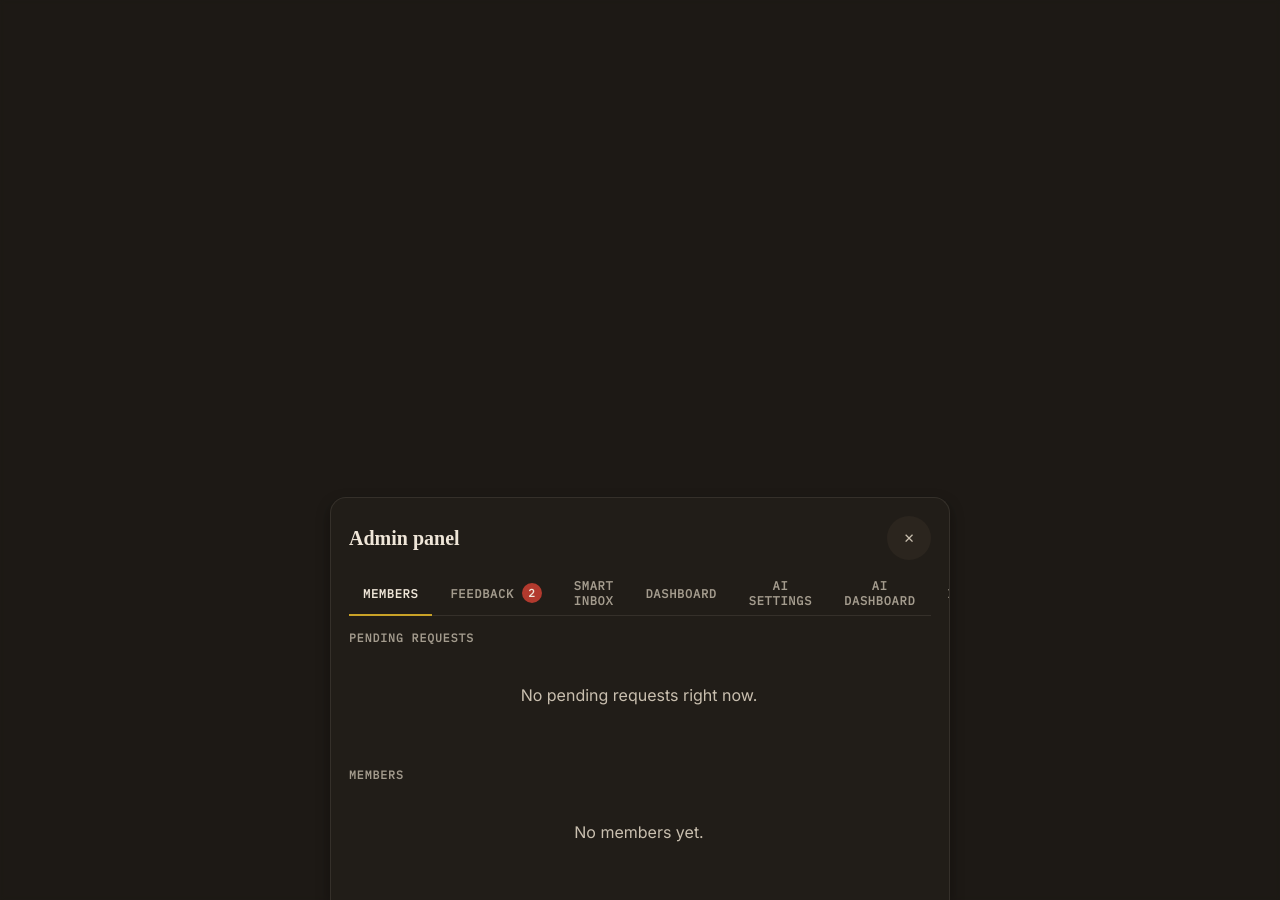
Test: Admin feedback inbox (epic #74, T6 #75) › saves an admin note via PATCH and confirms it was persisted
Click the tab "Feedback 2".
click(496, 594)  # box [436,572,556,616]
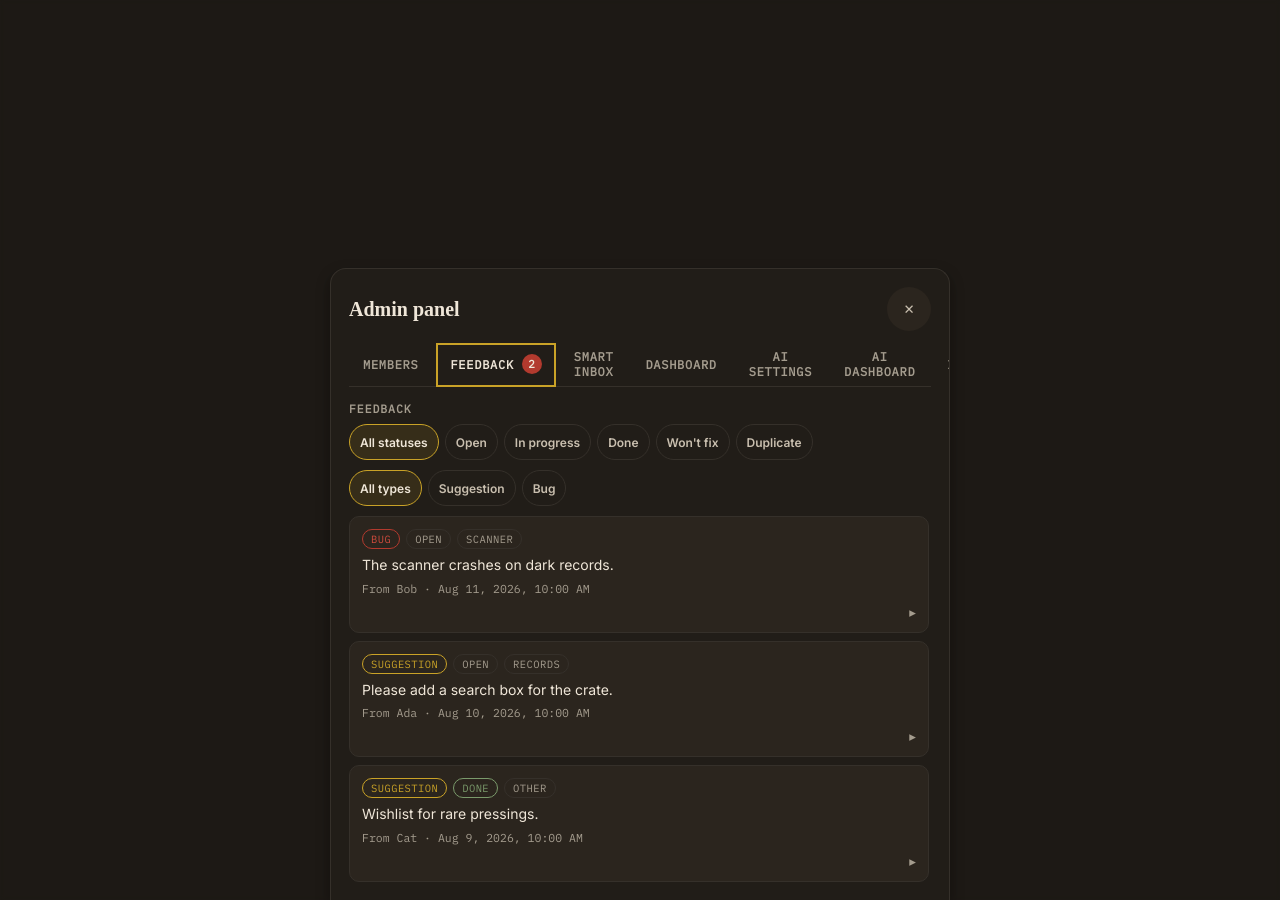
Click the button "Please add".
click(405, 664)  # box [350,642,928,756]
(page scrolled)
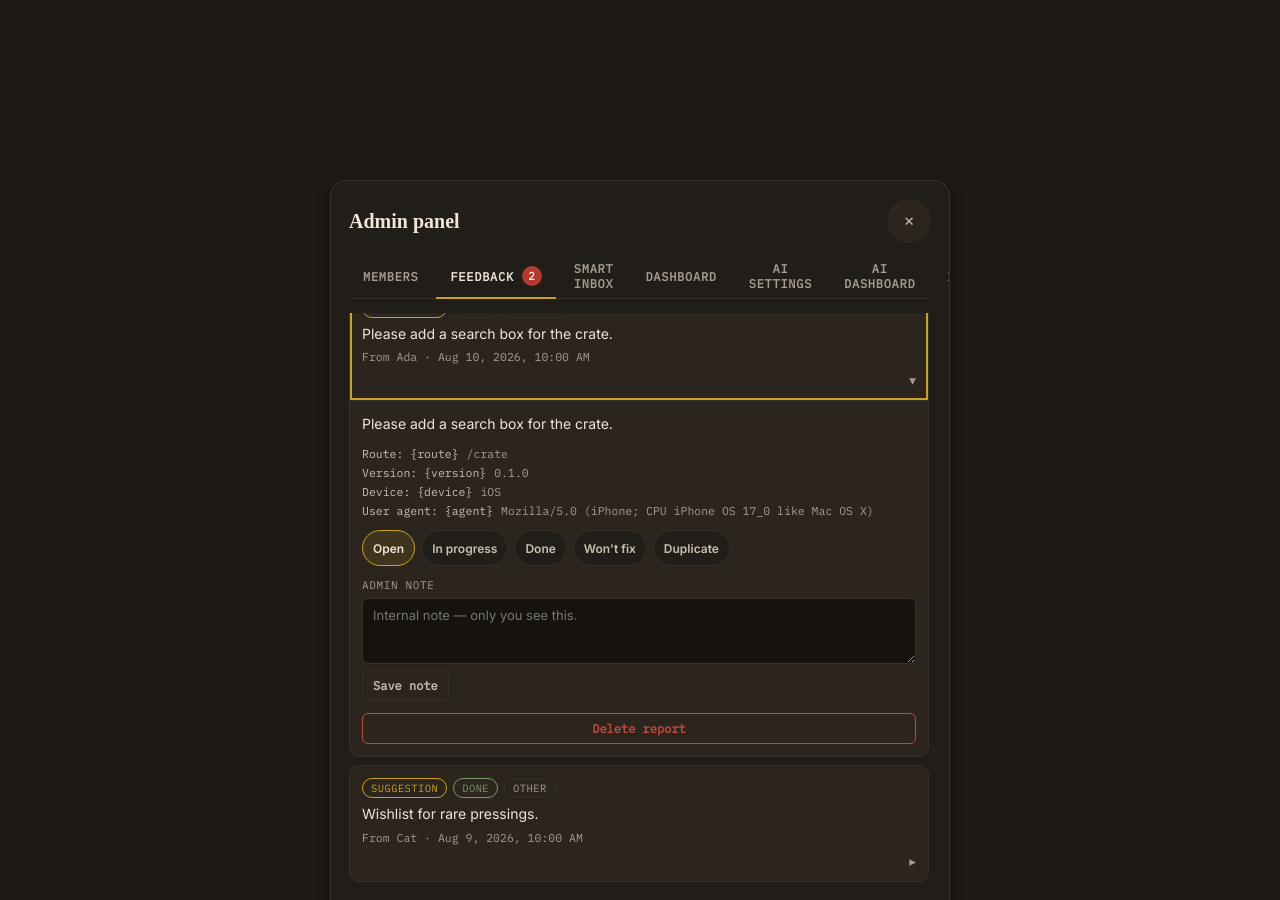
Type "Follow up next week." into the text box labelled "Admin note".
click(639, 631); type("Follow up next week.")  # box [362,598,916,664]
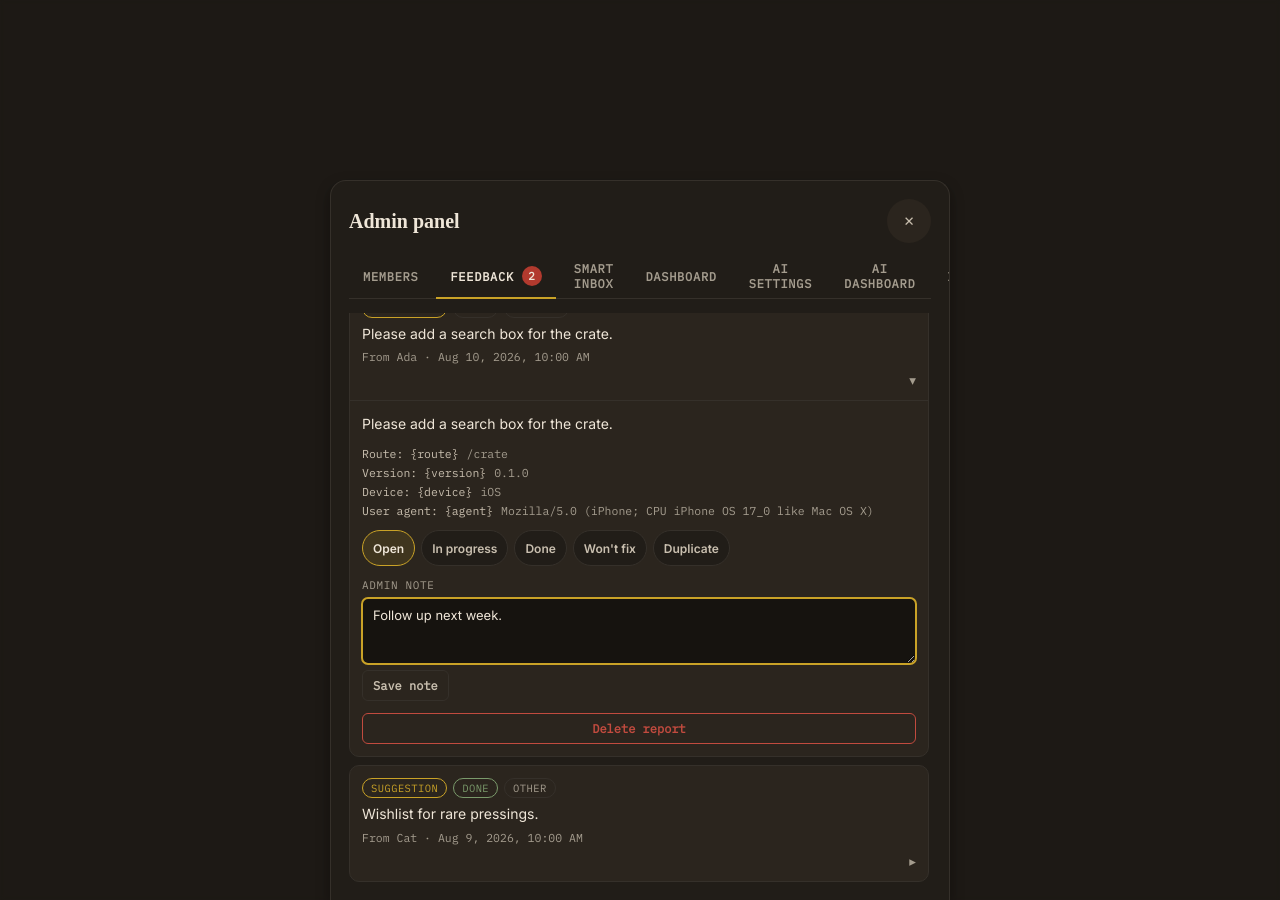
Click the button "Save note".
click(405, 686)  # box [362,670,449,701]
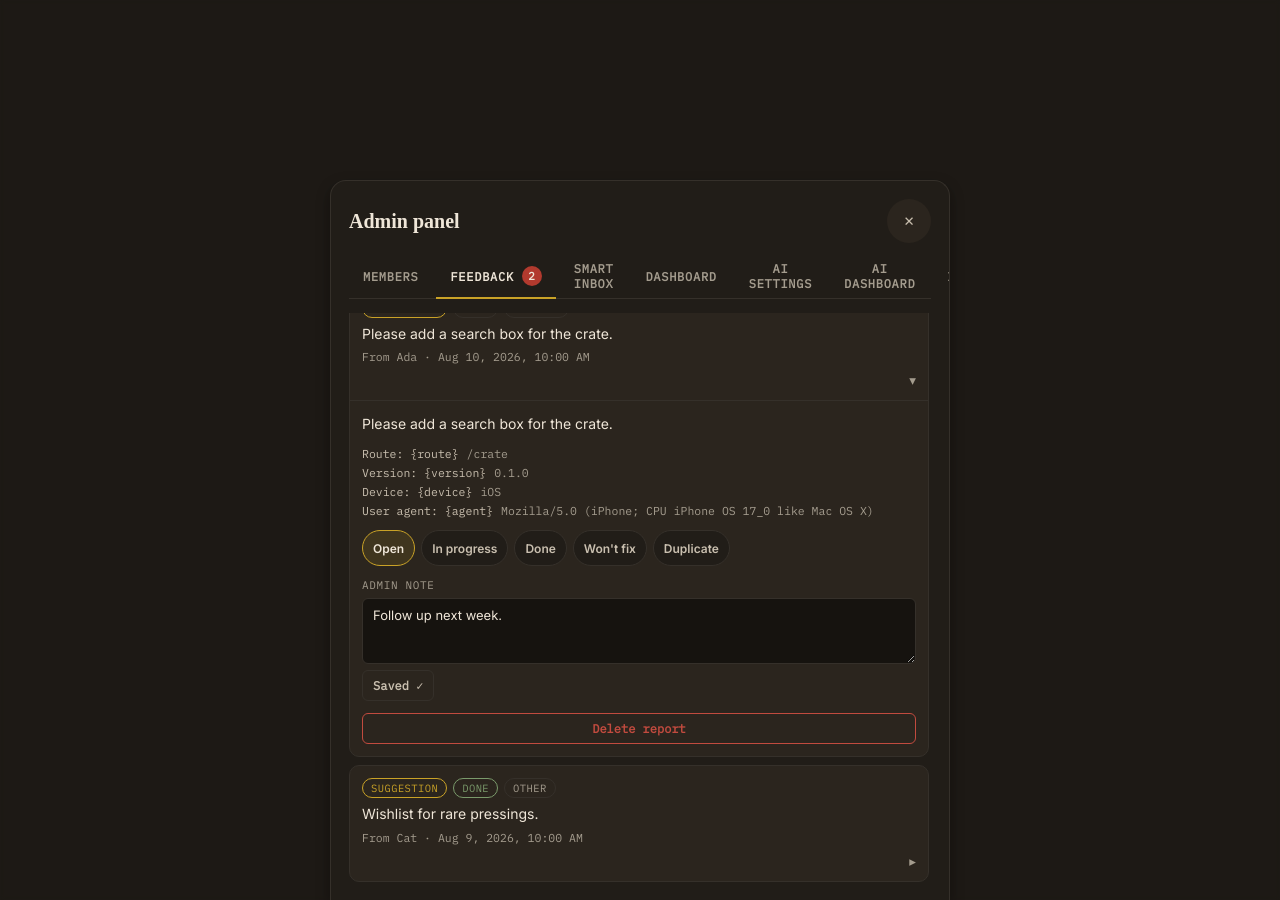
Expected: the button "Saved ✓" is shown, [362,670,434,701]
